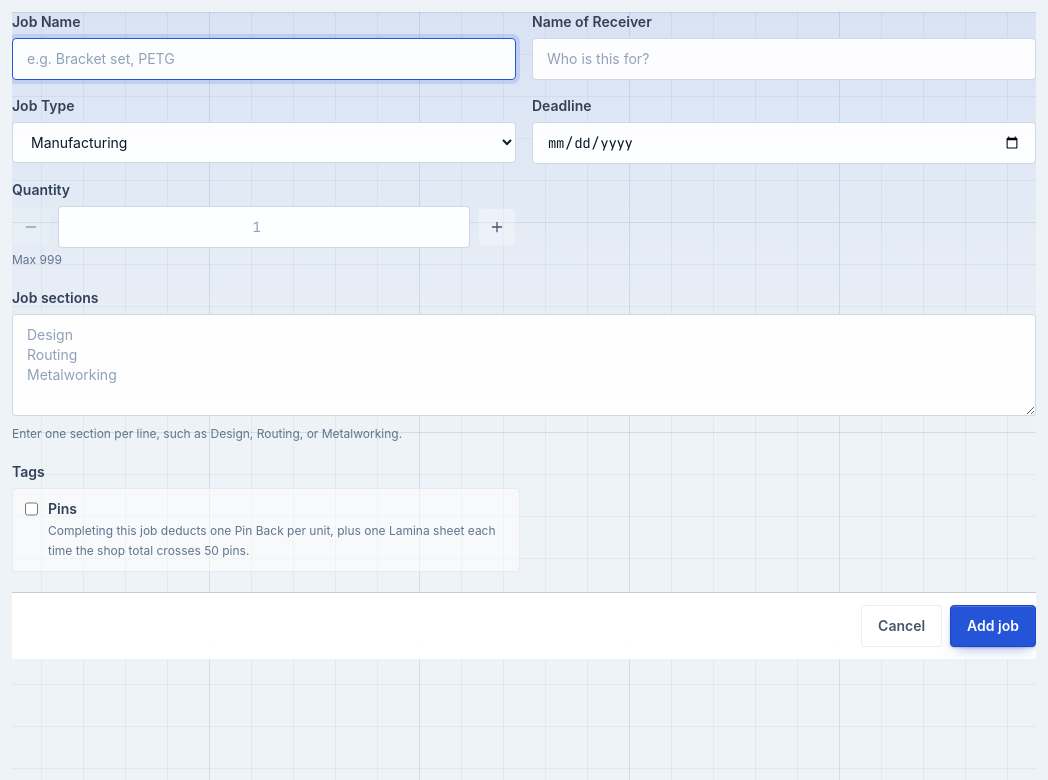
Test case: AWF job form › rejects a deadline in the past
Type "Badges" into the field labelled "Job Name" at (264, 59), box x1=12 y1=38 x2=516 y2=80
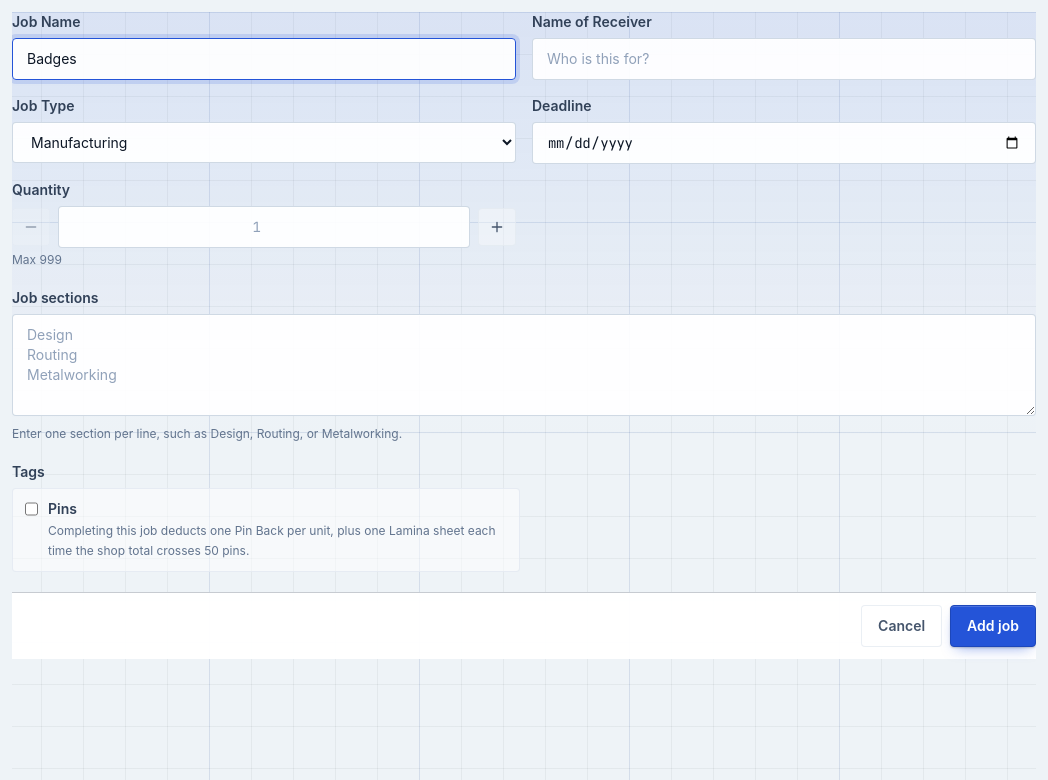
Type "Conference team" into the field labelled "Name of Receiver" at (784, 59), box x1=532 y1=38 x2=1036 y2=80
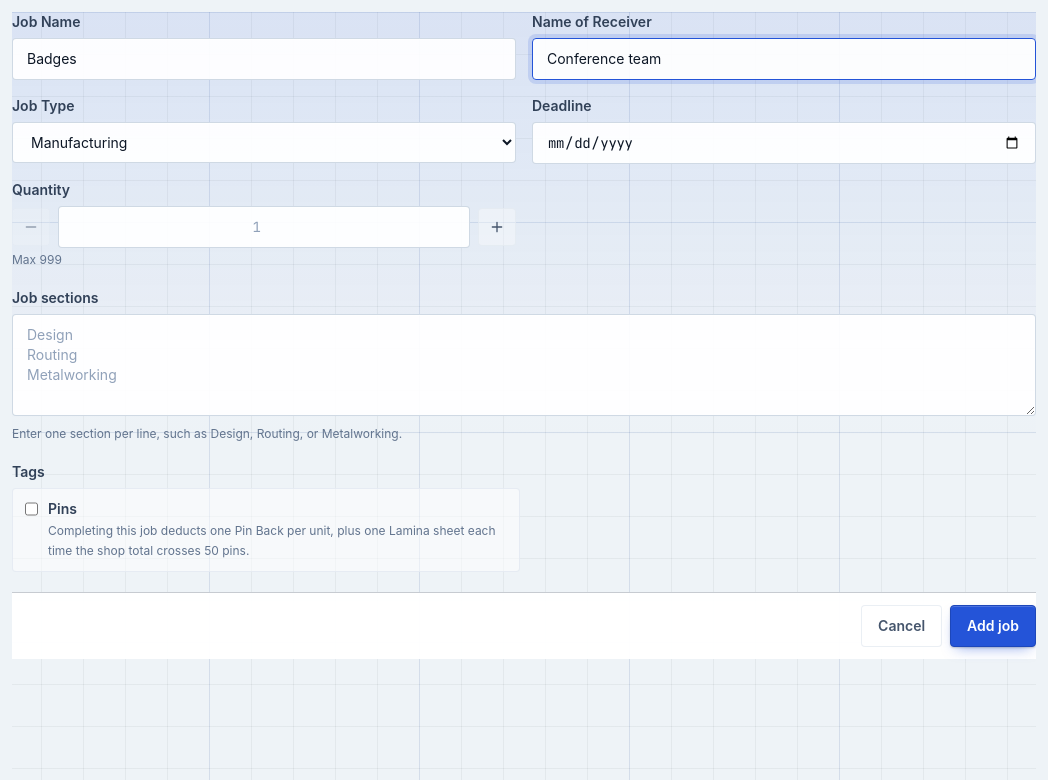
Type "25" into the number field labelled "Quantity" at (264, 227), box x1=58 y1=206 x2=470 y2=248
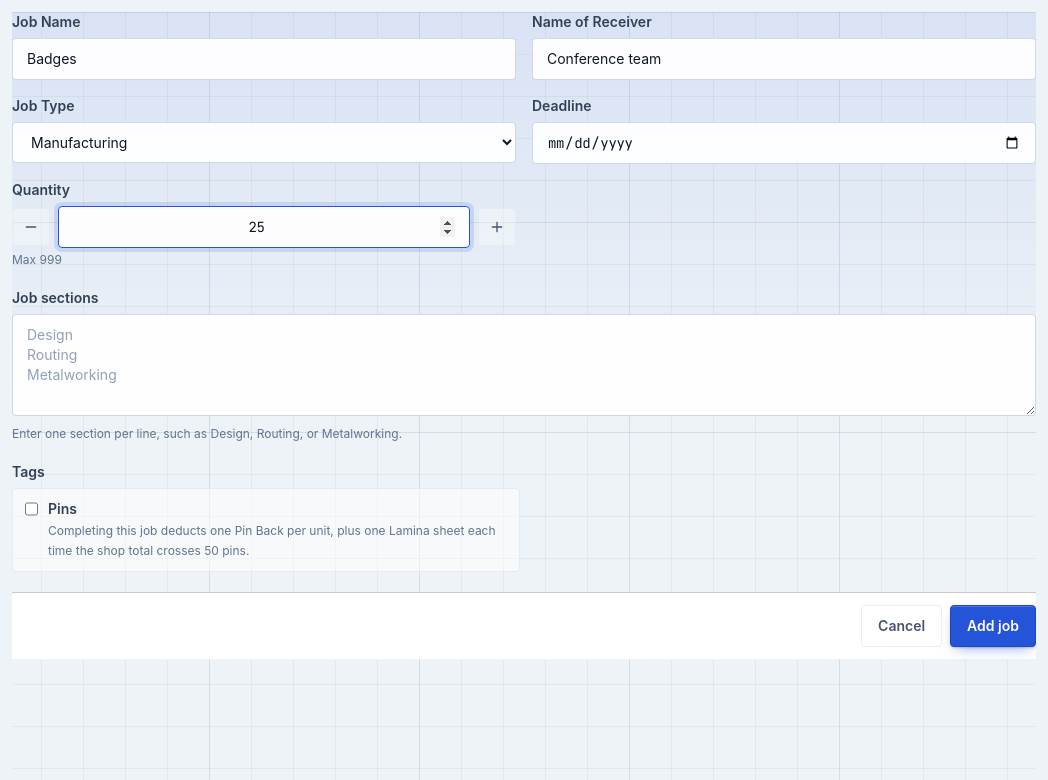
Type "2000-01-01" into the date field labelled "Deadline" at (784, 143), box x1=532 y1=122 x2=1036 y2=164
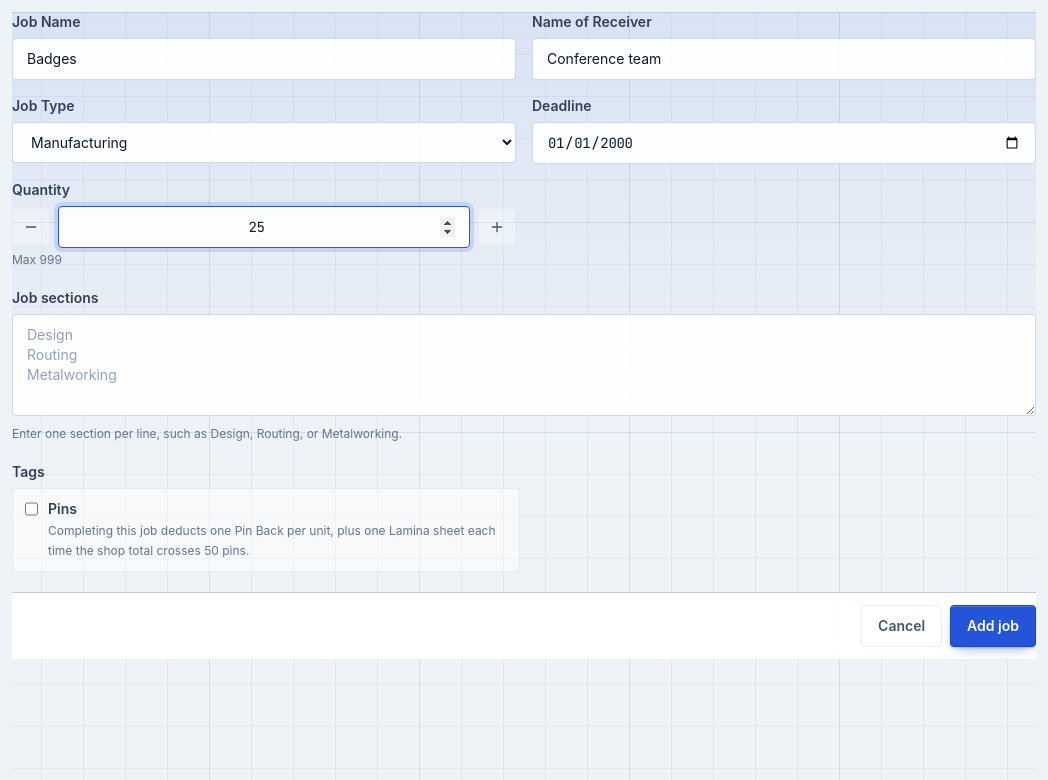
Click the button "Add job" at (993, 626), box x1=950 y1=605 x2=1036 y2=647
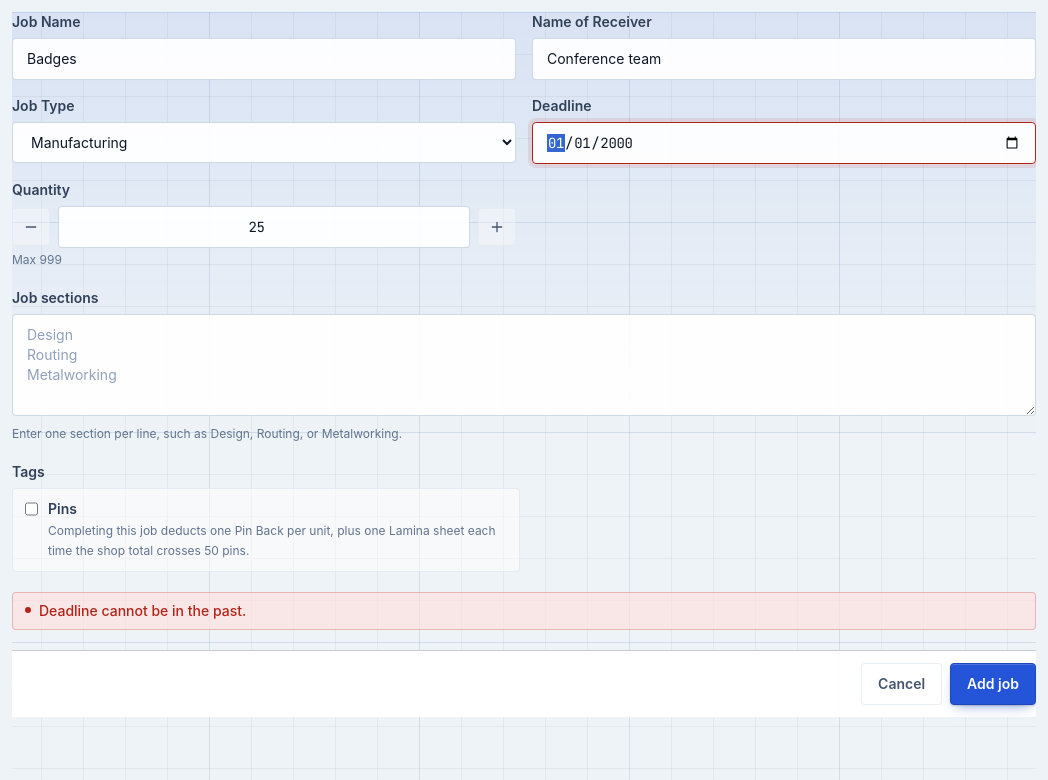
Expected: the message reads "Deadline cannot be in the past.", x1=39 y1=602 x2=246 y2=619
